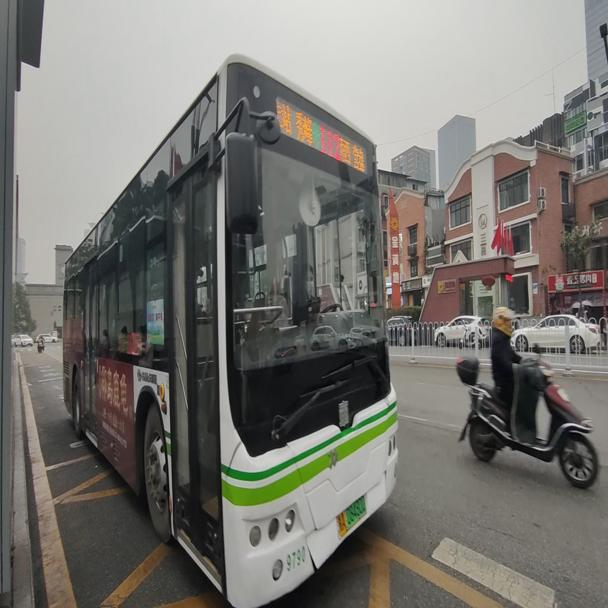bus: (61, 49, 398, 603)
screen: (316, 117, 340, 159)
